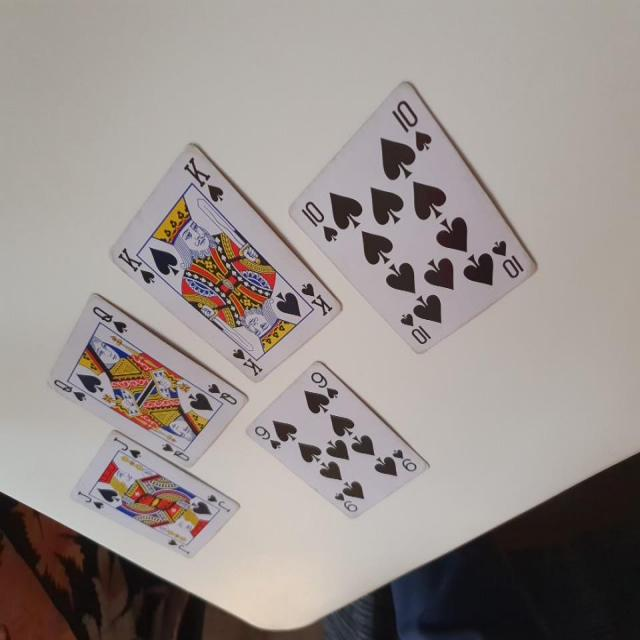10 Spades: (289, 68, 540, 364)
9 Spades: (242, 345, 436, 534)
J Spades: (66, 426, 244, 565)
K Spades: (108, 137, 347, 394)
Q Spades: (34, 292, 245, 476)
